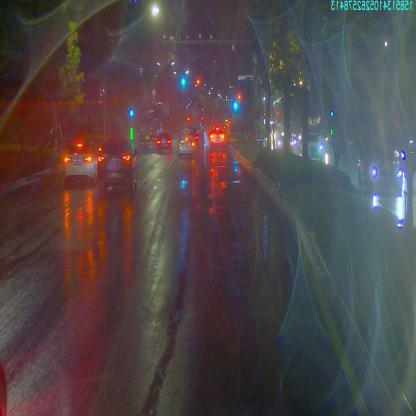traffic-light: (181, 75, 186, 89), (196, 78, 201, 86)
